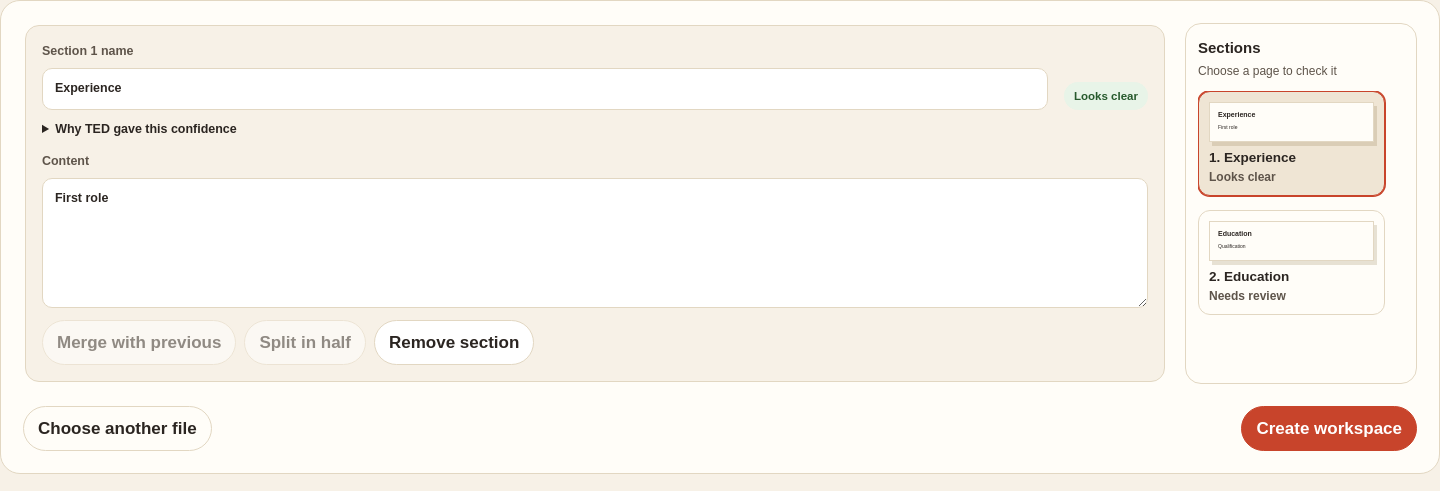
ImportReviewPanel › requires a confirm step before a section is actually removed
Step 1. Click the button "Remove section" → (454, 342), box [374,320,534,365]
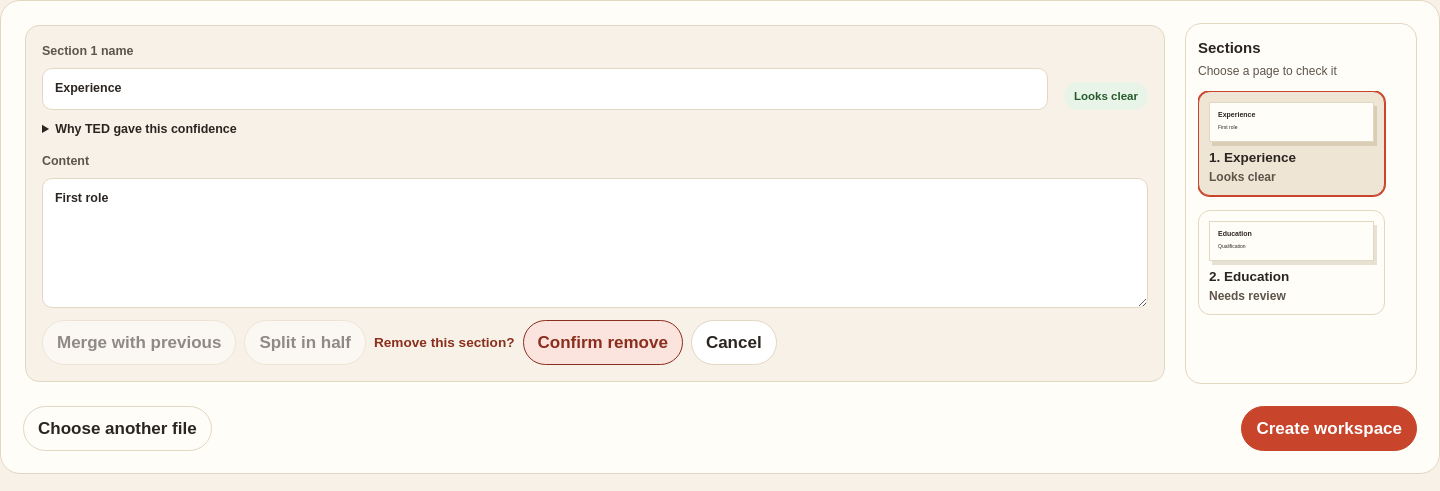
expect the field showing "Experience" is shown: met, box [42,68,1048,110]
expect the text "Remove this section?" is shown: met, box [374,332,514,353]
Step 2. Click the button "Cancel" → (734, 342), box [691,320,777,365]
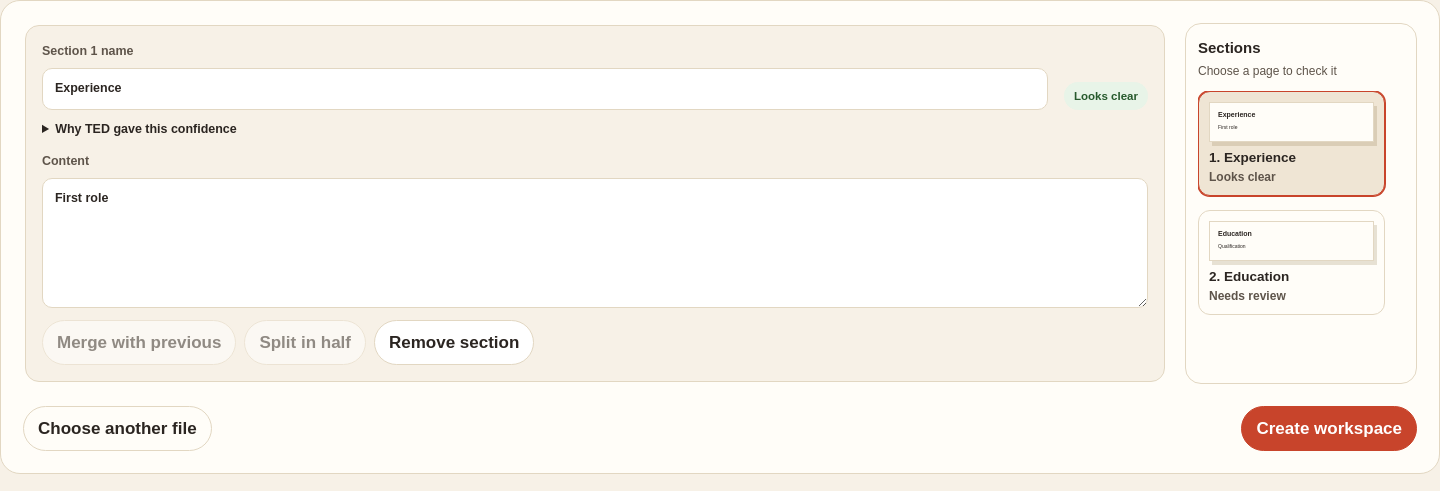
expect the field showing "Experience" is shown: met, box [42,68,1048,110]
expect the text "Remove this section?" is gone: met
Step 3. Click the button "Remove section" → (454, 342), box [374,320,534,365]
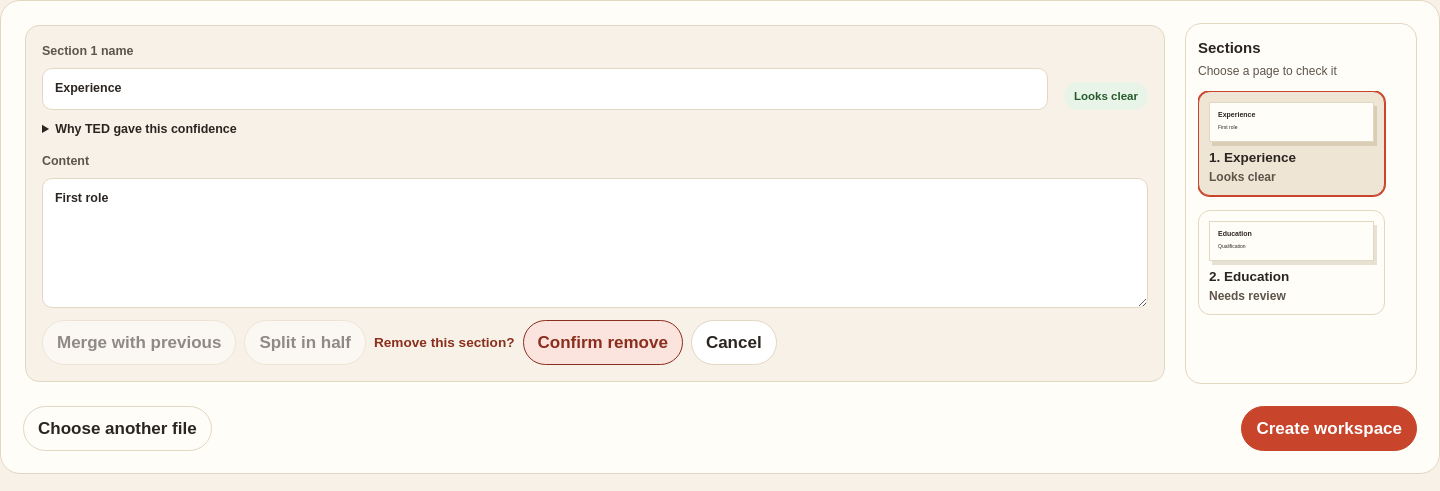
Step 4. Click the button "Confirm remove" → (603, 342), box [522,320,683,365]
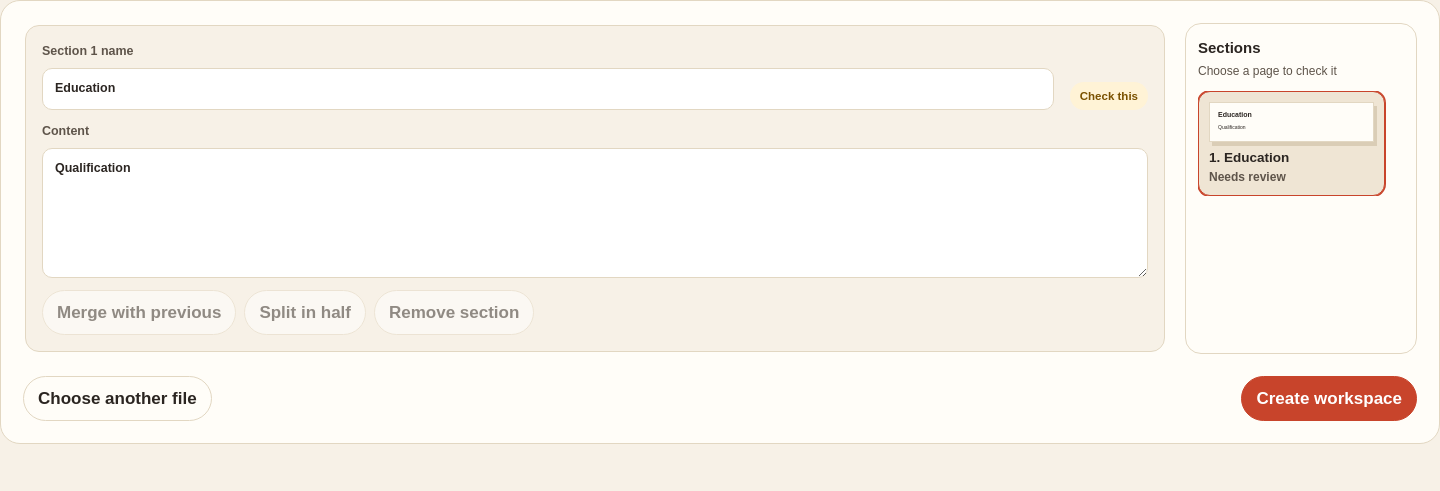
expect the button showing "Experience" is gone: met
expect the field showing "Education" is shown: met, box [42,68,1054,110]
